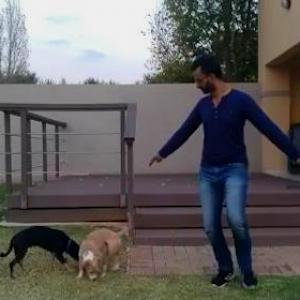land: (143, 52, 299, 292)
